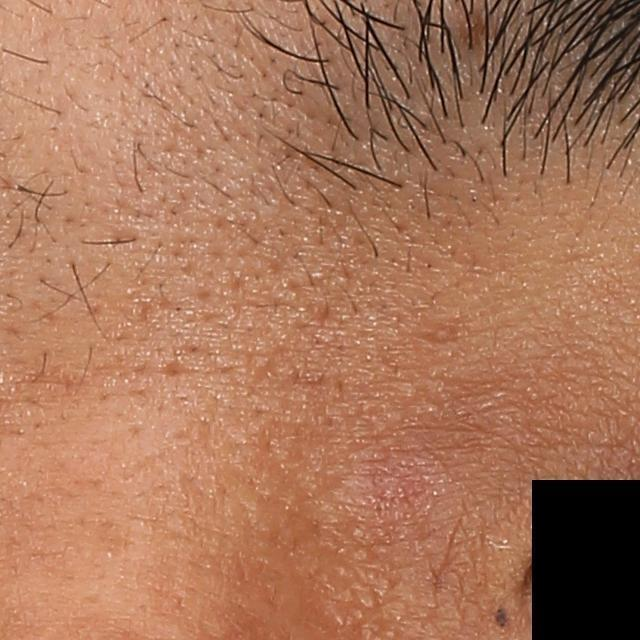atrophic_scar: (154, 356, 192, 376)
nevus: (492, 603, 510, 631)
